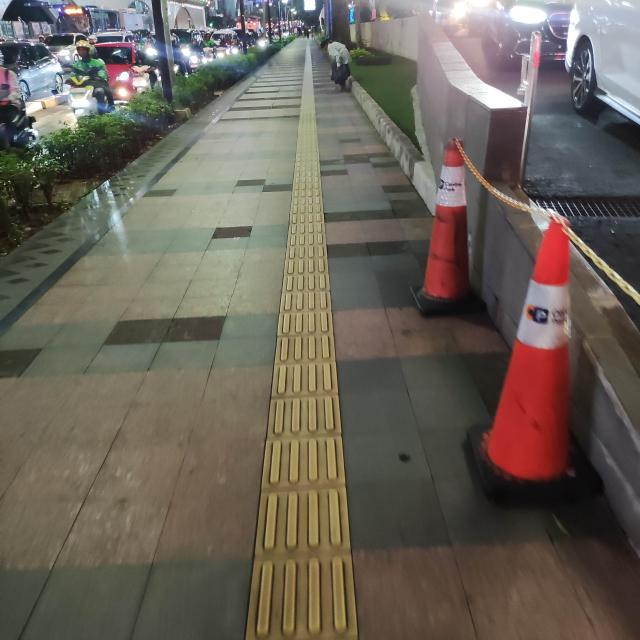lurus: (242, 135, 363, 640)
